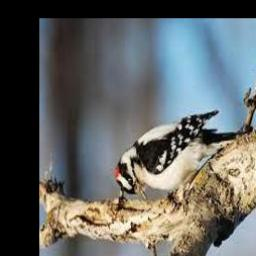Woodpecker: (116, 111, 253, 201)
